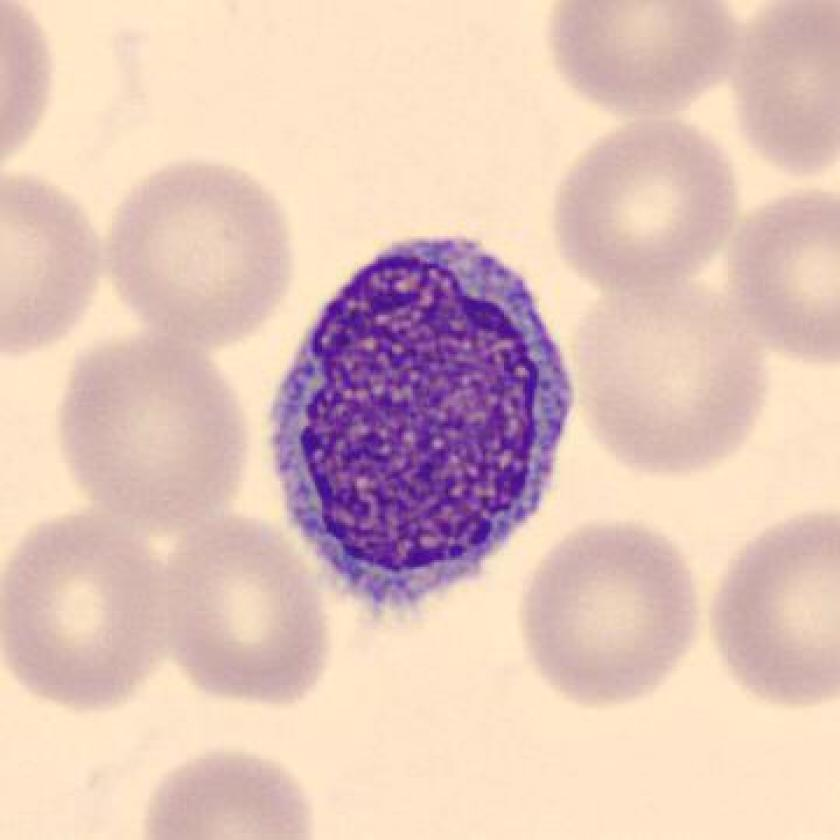monocyte: (253, 217, 594, 631)
